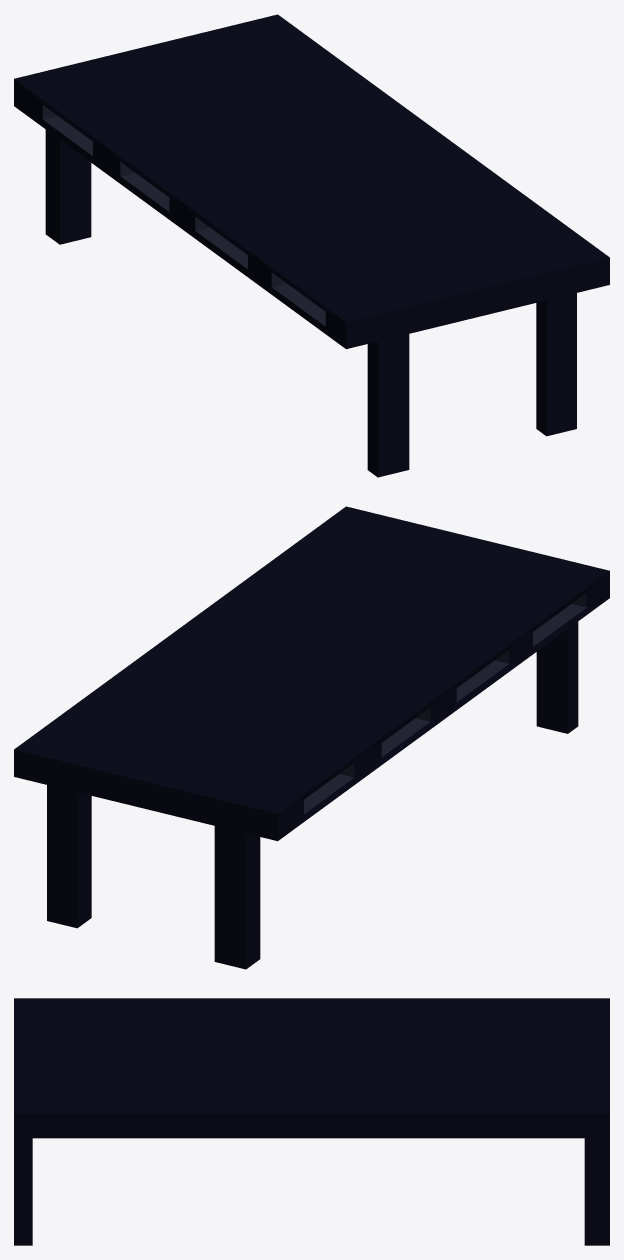
File: RivenRoom_darkcoffeetable.fbx
3 renders of one model, top to bottom at view 1: azimuth 30°, elevation 25°; view 2: azimuth 150°, elevation 25°; view 3: azimuth 270°, elevation 25°, orthographic. The views are drawn at different scales.
Parts seen in each view (by area): view 1: Cube.131; view 2: Cube.131; view 3: Cube.131.
Boxes of the visible parts, box(x1,y1,x2,y2) form: Cube.131: box(14, 14, 609, 477); Cube.131: box(14, 506, 609, 969); Cube.131: box(14, 998, 609, 1245).
Size of the model in its own units: 57.29 by 33.9 by 125.
